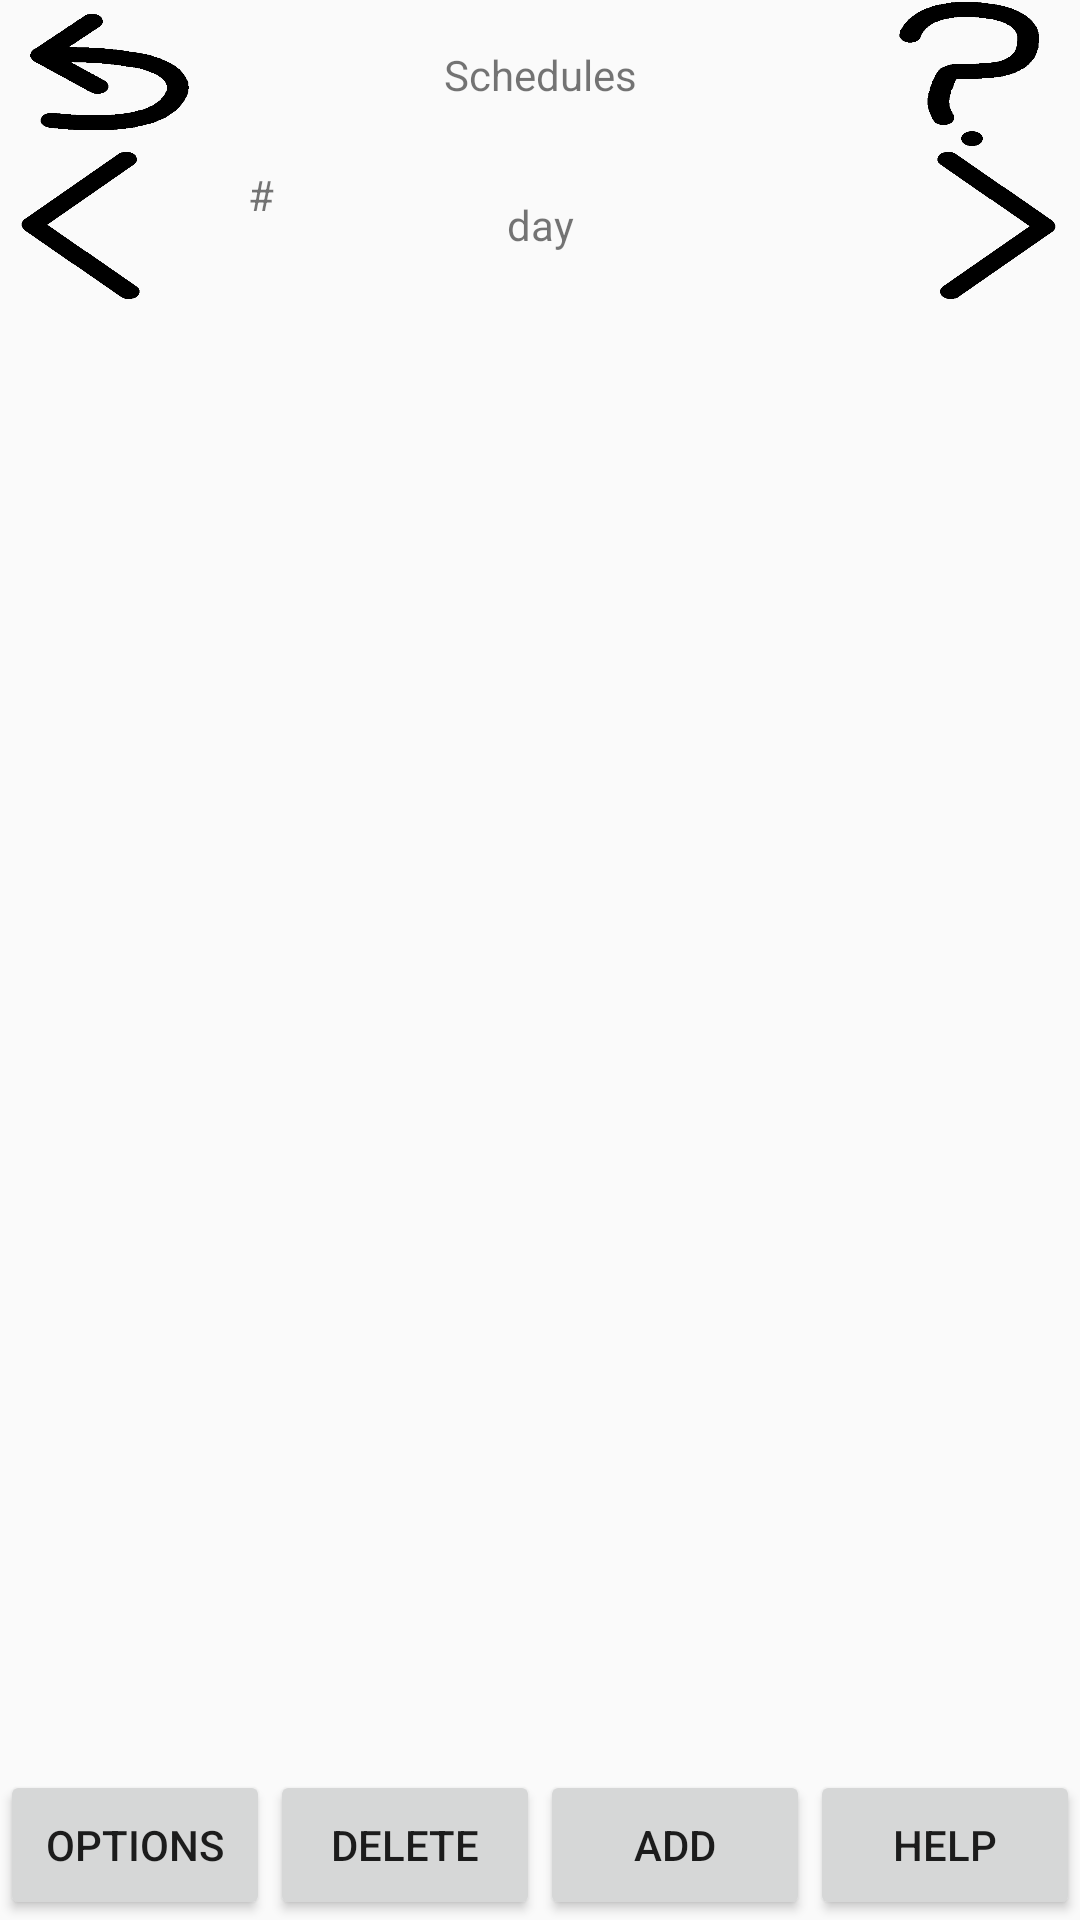

Named icons in this screenshot (1080px×1920px) and their centers, (x=x, y=y):
backbutton: (x=109, y=72)
questionmark: (x=969, y=74)
shiftleft: (x=80, y=225)
shiftright: (x=996, y=225)
